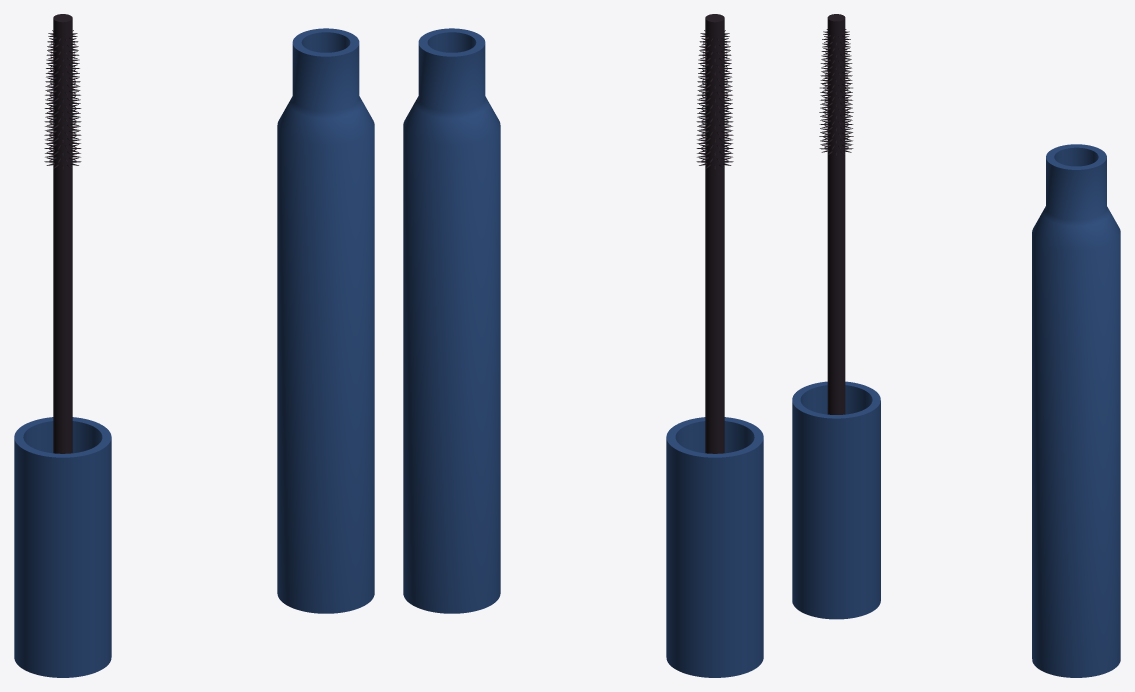
3 renders of one model, left to right at view 1: azimuth 30°, elevation 25°; view 2: azimuth 150°, elevation 25°; view 3: azimuth 330°, elevation 25°, orthographic. The views are drawn at different scales.
Visible parts, largest first — view 1: Open mascara bottle with closed base, Hollow wand cap, Wand stem and brush core; view 2: Open mascara bottle with closed base, Hollow wand cap, Wand stem and brush core; view 3: Open mascara bottle with closed base, Hollow wand cap, Wand stem and brush core.
Boxes of the visible parts, x1=… form: Open mascara bottle with closed base: x1=277, y1=28, x2=374, y2=613; Hollow wand cap: x1=14, y1=417, x2=111, y2=677; Wand stem and brush core: x1=53, y1=14, x2=72, y2=453; Open mascara bottle with closed base: x1=403, y1=28, x2=500, y2=613; Hollow wand cap: x1=666, y1=417, x2=763, y2=677; Wand stem and brush core: x1=705, y1=14, x2=724, y2=453; Open mascara bottle with closed base: x1=1032, y1=144, x2=1120, y2=677; Hollow wand cap: x1=792, y1=381, x2=880, y2=619; Wand stem and brush core: x1=827, y1=14, x2=845, y2=414.
Bounding box in the file's own units: 0.066 × 0.1161 × 0.016.
